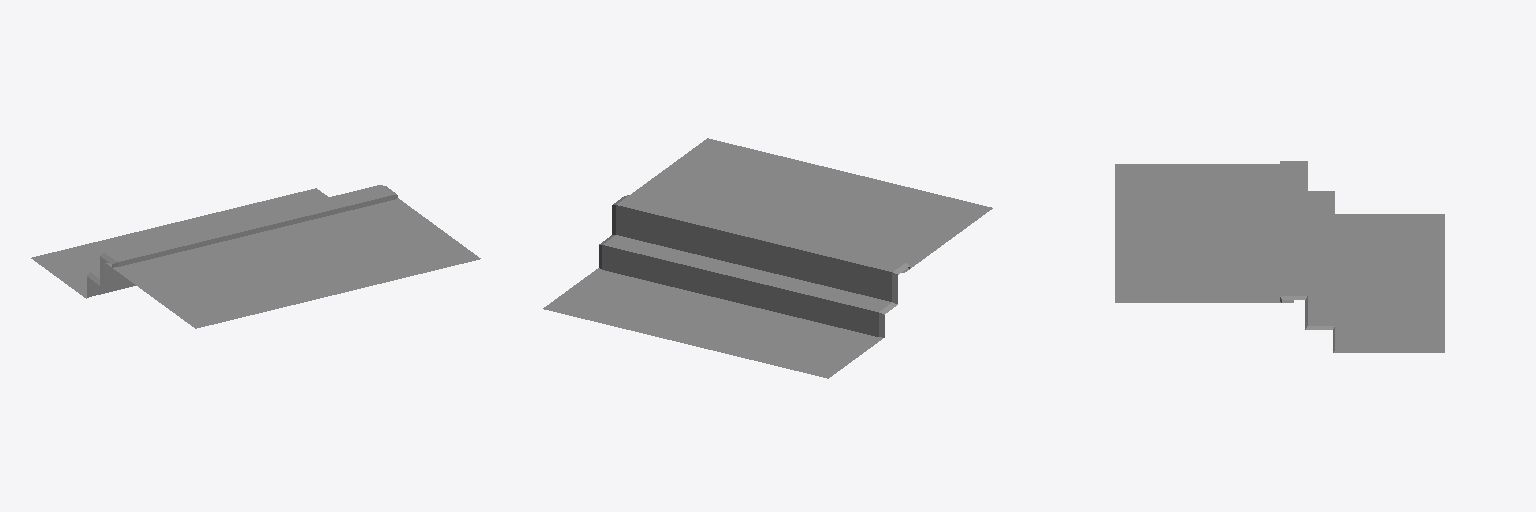
Rendered from Sunken_Floor_Edge.obj.
3 renders of one model, left to right at view 1: azimuth 30°, elevation 25°; view 2: azimuth 150°, elevation 25°; view 3: azimuth 270°, elevation 25°, orthographic.
Parts seen in each view (by area): view 1: Palette; view 2: Palette; view 3: Palette.
Boxes of the visible parts, <box> form: Palette: <box>31,185,480,328</box>; Palette: <box>543,138,992,378</box>; Palette: <box>1115,161,1444,352</box>.
Bounding box in the file's own units: 6 × 1.1 × 6.